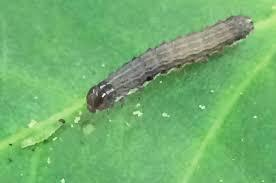fallarmy_worm: (79, 13, 267, 111)
